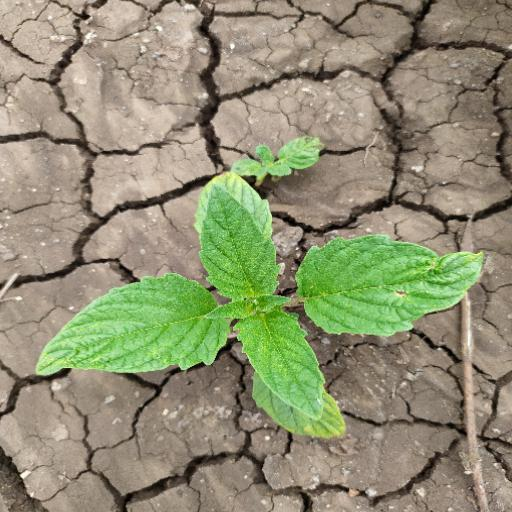crop: (41, 178, 491, 451)
